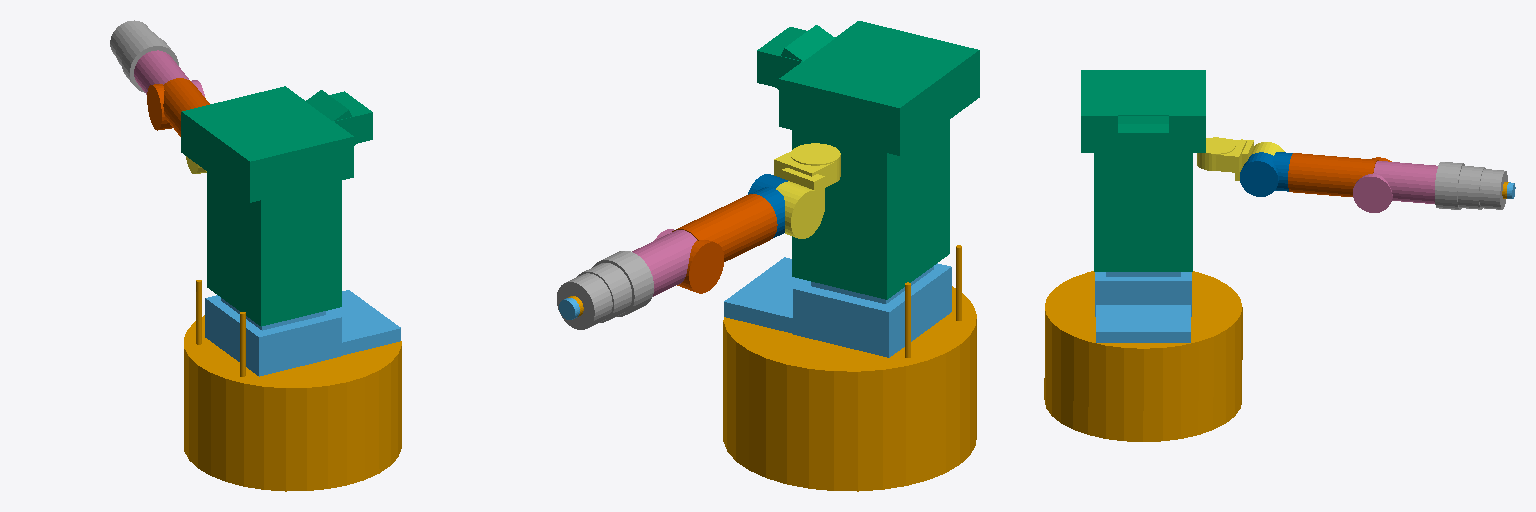
The robot description file, URDF, robot "TIAGo Steel":
<?xml version="1.0"?>
<robot name="TIAGo Steel" xmlns:xacro="http://ros.org/wiki/xacro">
  <link name="base_link">
    <visual>
      <origin xyz="0 0 0.06" rpy="3.1407962 0 0"/>
      <geometry>
        <cylinder radius="0.265" length="0.276"/>
      </geometry>
    </visual>
    <collision>
      <origin xyz="0 0 0.06" rpy="3.1407962 0 0"/>
      <geometry>
        <cylinder radius="0.265" length="0.276"/>
      </geometry>
    </collision>
    <visual>
      <origin xyz="-0.201 0.1062 0.28" rpy="3.1407962 0 0"/>
      <geometry>
        <cylinder radius="0.007" length="0.173"/>
      </geometry>
    </visual>
    <collision>
      <origin xyz="-0.201 0.1062 0.28" rpy="3.1407962 0 0"/>
      <geometry>
        <cylinder radius="0.007" length="0.173"/>
      </geometry>
    </collision>
    <visual>
      <origin xyz="-0.201 -0.1062 0.28" rpy="3.1407962 0 0"/>
      <geometry>
        <cylinder radius="0.007" length="0.173"/>
      </geometry>
    </visual>
    <collision>
      <origin xyz="-0.201 -0.1062 0.28" rpy="3.1407962 0 0"/>
      <geometry>
        <cylinder radius="0.007" length="0.173"/>
      </geometry>
    </collision>
  </link>
  <link name="Torso">
    <visual>
      <origin xyz="0 0 0.275" rpy="0 0 0"/>
      <geometry>
        <box size="0.18 0.2 0.55"/>
      </geometry>
    </visual>
    <collision>
      <origin xyz="0 0 0.275" rpy="0 0 0"/>
      <geometry>
        <box size="0.18 0.2 0.55"/>
      </geometry>
    </collision>
    <visual>
      <origin xyz="0.085 0 0.02" rpy="0 0 0"/>
      <geometry>
        <box size="0.4 0.254 0.04"/>
      </geometry>
    </visual>
    <collision>
      <origin xyz="0.085 0 0.02" rpy="0 0 0"/>
      <geometry>
        <box size="0.4 0.254 0.04"/>
      </geometry>
    </collision>
    <visual>
      <origin xyz="0.001 0 0.05" rpy="0 0 0"/>
      <geometry>
        <box size="0.233 0.26 0.12"/>
      </geometry>
    </visual>
    <collision>
      <origin xyz="0.001 0 0.05" rpy="0 0 0"/>
      <geometry>
        <box size="0.233 0.26 0.12"/>
      </geometry>
    </collision>
  </link>
  <joint name="base_link_Torso_joint" type="fixed">
    <parent link="base_link"/>
    <child link="Torso"/>
    <origin xyz="-0.054 0 0.193" rpy="0 0 0"/>
  </joint>
  <joint name="torso_lift_joint" type="prismatic">
    <parent link="Torso"/>
    <child link="torso_lift_link"/>
    <axis xyz="0 0 1"/>
    <origin xyz="0 0 0.6" rpy="0 0 0"/>
    <limit effort="2000" lower="0" upper="0.35" velocity="0.07"/>
  </joint>
  <link name="torso_lift_link">
    <visual>
      <origin xyz="0.164 0 -0.032" rpy="0 0 0"/>
      <geometry>
        <box size="0.15 0.138 0.074"/>
      </geometry>
    </visual>
    <collision>
      <origin xyz="0.164 0 -0.032" rpy="0 0 0"/>
      <geometry>
        <box size="0.15 0.138 0.074"/>
      </geometry>
    </collision>
    <visual>
      <origin xyz="0.1389 0 -0.0432" rpy="0 -0.43 0"/>
      <geometry>
        <box size="0.12 0.134 0.097"/>
      </geometry>
    </visual>
    <collision>
      <origin xyz="0.1389 0 -0.0432" rpy="0 -0.43 0"/>
      <geometry>
        <box size="0.12 0.134 0.097"/>
      </geometry>
    </collision>
    <visual>
      <origin xyz="-0.016 0 -0.05" rpy="0 0 0"/>
      <geometry>
        <box size="0.291 0.333 0.11"/>
      </geometry>
    </visual>
    <collision>
      <origin xyz="-0.016 0 -0.05" rpy="0 0 0"/>
      <geometry>
        <box size="0.291 0.333 0.11"/>
      </geometry>
    </collision>
    <visual>
      <origin xyz="0.003 0 -0.283" rpy="0 0 0"/>
      <geometry>
        <box size="0.228 0.263 0.358"/>
      </geometry>
    </visual>
    <collision>
      <origin xyz="0.003 0 -0.283" rpy="0 0 0"/>
      <geometry>
        <box size="0.228 0.263 0.358"/>
      </geometry>
    </collision>
  </link>
  <joint name="arm_1_joint" type="revolute">
    <parent link="torso_lift_link"/>
    <child link="arm_1_link"/>
    <axis xyz="0 0 1"/>
    <limit effort="43" lower="0.07" upper="2.68" velocity="1.95"/>
    <origin xyz="0.025 0.194 -0.16" rpy="0 0 0"/>
  </joint>
  <link name="arm_1_link">
    <visual>
      <origin xyz="0.0001 0 0.002" rpy="-3.141589 0 0"/>
      <geometry>
        <cylinder radius="0.0522" length="0.052"/>
      </geometry>
    </visual>
    <collision>
      <origin xyz="0.0001 0 0.002" rpy="-3.141589 0 0"/>
      <geometry>
        <cylinder radius="0.0522" length="0.052"/>
      </geometry>
    </collision>
    <visual>
      <origin xyz="0.0331 0.001 0.001" rpy="0 0 0"/>
      <geometry>
        <box size="0.08 0.1044 0.048"/>
      </geometry>
    </visual>
    <collision>
      <origin xyz="0.0331 0.001 0.001" rpy="0 0 0"/>
      <geometry>
        <box size="0.08 0.1044 0.048"/>
      </geometry>
    </collision>
    <visual>
      <origin xyz="0.0721 0.029 -0.023" rpy="0 0 0"/>
      <geometry>
        <box size="0.035 0.09 0.081"/>
      </geometry>
    </visual>
    <collision>
      <origin xyz="0.0721 0.029 -0.023" rpy="0 0 0"/>
      <geometry>
        <box size="0.035 0.09 0.081"/>
      </geometry>
    </collision>
    <visual>
      <origin xyz="0.1251 0.053 -0.042" rpy="1.5707963 0 0"/>
      <geometry>
        <cylinder radius="0.053" length="0.069"/>
      </geometry>
    </visual>
    <collision>
      <origin xyz="0.1251 0.053 -0.042" rpy="1.5707963 0 0"/>
      <geometry>
        <cylinder radius="0.053" length="0.069"/>
      </geometry>
    </collision>
  </link>
  <joint name="arm_2_joint" type="revolute">
    <parent link="arm_1_link"/>
    <child link="arm_2_link"/>
    <axis xyz="0 3.6732051e-06 1"/>
    <limit effort="43" lower="-1.5" upper="1.02" velocity="1.95"/>
    <origin xyz="0.1251 0.0195 -0.042" rpy="1.5708 0 0"/>
  </joint>
  <link name="arm_2_link">
    <visual>
      <origin xyz="0.056 5.5098077e-09 -0.0005" rpy="1.5707963 -2.7755576e-16 -1.5708"/>
      <geometry>
        <cylinder radius="0.052" length="0.048"/>
      </geometry>
    </visual>
    <collision>
      <origin xyz="0.056 5.5098077e-09 -0.0005" rpy="1.5707963 -2.7755576e-16 -1.5708"/>
      <geometry>
        <cylinder radius="0.052" length="0.048"/>
      </geometry>
    </collision>
    <visual>
      <origin xyz="0 5.5098077e-09 0.0295" rpy="-3.7000516e-06 0 0"/>
      <geometry>
        <cylinder radius="0.053" length="0.057"/>
      </geometry>
    </visual>
    <collision>
      <origin xyz="0 5.5098077e-09 0.0295" rpy="-3.7000516e-06 0 0"/>
      <geometry>
        <cylinder radius="0.053" length="0.057"/>
      </geometry>
    </collision>
  </link>
  <joint name="arm_3_joint" type="revolute">
    <parent link="arm_2_link"/>
    <child link="arm_3_link"/>
    <axis xyz="-7.801315e-05 -9.5201074e-05 1"/>
    <limit effort="26" lower="-3.46" upper="1.5" velocity="2.35"/>
    <origin xyz="0.0895 5.5098077e-09 -1.0118208e-14" rpy="-1.5708915 9.5201074e-05 1.5707183"/>
  </joint>
  <link name="arm_3_link">
    <visual>
      <origin xyz="-1.7943024e-07 -2.1896247e-07 -0.1037" rpy="-3.7000516e-06 0 0"/>
      <geometry>
        <cylinder radius="0.053" length="0.23"/>
      </geometry>
    </visual>
    <collision>
      <origin xyz="-1.7943024e-07 -2.1896247e-07 -0.1037" rpy="-3.7000516e-06 0 0"/>
      <geometry>
        <cylinder radius="0.053" length="0.23"/>
      </geometry>
    </collision>
    <visual>
      <origin xyz="-0.01690018 0.029999781 -0.2187" rpy="1.5707963 0 0"/>
      <geometry>
        <cylinder radius="0.056" length="0.056"/>
      </geometry>
    </visual>
    <collision>
      <origin xyz="-0.01690018 0.029999781 -0.2187" rpy="1.5707963 0 0"/>
      <geometry>
        <cylinder radius="0.056" length="0.056"/>
      </geometry>
    </collision>
  </link>
  <joint name="arm_4_joint" type="revolute">
    <parent link="arm_3_link"/>
    <child link="arm_4_link"/>
    <axis xyz="2.8276386e-06 -2.8276306e-06 1"/>
    <limit effort="26" lower="-0.32" upper="2.29" velocity="2.35"/>
    <origin xyz="-0.02000018 -0.027000219 -0.2197" rpy="2.356193 -1.5707923 2.356193"/>
  </joint>
  <link name="arm_4_link">
    <visual>
      <origin xyz="0 0.001 -0.002" rpy="-3.141589 0 0"/>
      <geometry>
        <cylinder radius="0.054" length="0.056"/>
      </geometry>
    </visual>
    <collision>
      <origin xyz="0 0.001 -0.002" rpy="-3.141589 0 0"/>
      <geometry>
        <cylinder radius="0.054" length="0.056"/>
      </geometry>
    </collision>
    <visual>
      <origin xyz="-0.093 0.019 0.027" rpy="1.5707963 -2.7755576e-16 -1.5708"/>
      <geometry>
        <cylinder radius="0.052" length="0.191"/>
      </geometry>
    </visual>
    <collision>
      <origin xyz="-0.093 0.019 0.027" rpy="1.5707963 -2.7755576e-16 -1.5708"/>
      <geometry>
        <cylinder radius="0.052" length="0.191"/>
      </geometry>
    </collision>
  </link>
  <joint name="arm_5_joint" type="revolute">
    <parent link="arm_4_link"/>
    <child link="arm_5_link"/>
    <axis xyz="3.6732051e-06 0 1"/>
    <limit effort="3" lower="-2.07" upper="2.07" velocity="1.95"/>
    <origin xyz="-0.162 0.02 0.027" rpy="3.1415927 -1.5707927 3.1415927"/>
  </joint>
  <link name="arm_5_link">
    <visual>
      <origin xyz="0 0 0.04" rpy="3.1407962 0 0"/>
      <geometry>
        <cylinder radius="0.063" length="0.062"/>
      </geometry>
    </visual>
    <collision>
      <origin xyz="0 0 0.04" rpy="3.1407962 0 0"/>
      <geometry>
        <cylinder radius="0.063" length="0.062"/>
      </geometry>
    </collision>
    <visual>
      <origin xyz="0 0 0.099" rpy="3.1407962 0 0"/>
      <geometry>
        <cylinder radius="0.057" length="0.06"/>
      </geometry>
    </visual>
    <collision>
      <origin xyz="0 0 0.099" rpy="3.1407962 0 0"/>
      <geometry>
        <cylinder radius="0.057" length="0.06"/>
      </geometry>
    </collision>
    <visual>
      <origin xyz="0 0 0.156" rpy="3.1407962 0 0"/>
      <geometry>
        <cylinder radius="0.053" length="0.06"/>
      </geometry>
    </visual>
    <collision>
      <origin xyz="0 0 0.156" rpy="3.1407962 0 0"/>
      <geometry>
        <cylinder radius="0.053" length="0.06"/>
      </geometry>
    </collision>
  </link>
  <joint name="arm_6_joint" type="revolute">
    <parent link="arm_5_link"/>
    <child link="arm_6_link"/>
    <axis xyz="2.8276386e-06 -2.8276306e-06 1"/>
    <limit effort="6.6" lower="-1.39" upper="1.39" velocity="1.76"/>
    <origin xyz="0 0 0.15" rpy="2.356193 -1.5707923 2.356193"/>
  </joint>
  <link name="arm_6_link">
    <visual>
      <origin xyz="0.0409 0 0" rpy="1.5707963 -2.7755576e-16 -1.5708"/>
      <geometry>
        <cylinder radius="0.0226" length="0.013"/>
      </geometry>
    </visual>
    <collision>
      <origin xyz="0.0409 0 0" rpy="1.5707963 -2.7755576e-16 -1.5708"/>
      <geometry>
        <cylinder radius="0.0226" length="0.013"/>
      </geometry>
    </collision>
  </link>
  <joint name="arm_7_joint" type="revolute">
    <parent link="arm_6_link"/>
    <child link="arm_7_link"/>
    <axis xyz="-2.8276306e-06 2.8276386e-06 1"/>
    <limit effort="6.6" lower="-2.07" upper="2.07" velocity="1.76"/>
    <origin xyz="0 0 0" rpy="1.5707991 -2.8276386e-06 1.5707991"/>
  </joint>
  <link name="arm_7_link">
    <visual>
      <origin xyz="-1.5551969e-07 1.5552013e-07 0.055" rpy="-3.141589 0 0"/>
      <geometry>
        <cylinder radius="0.0225" length="0.0157"/>
      </geometry>
    </visual>
    <collision>
      <origin xyz="-1.5551969e-07 1.5552013e-07 0.055" rpy="-3.141589 0 0"/>
      <geometry>
        <cylinder radius="0.0225" length="0.0157"/>
      </geometry>
    </collision>
  </link>
</robot>

--- Facts derived from the render (not from the file) ---
Views: 3 orthographic renders of the robot side by side, from view 1: azimuth 30°, elevation 25°; view 2: azimuth 150°, elevation 25°; view 3: azimuth 270°, elevation 25°.
Robot: TIAGo Steel — 10 links, 9 joints (7 revolute, 1 prismatic, 1 fixed); root link base_link; default pose: all joints at 0 but 1 set to mid-range because 0 is outside their limits (arm_1_joint = 1.38).
Visible links, largest first — view 1: torso_lift_link, base_link, Torso, arm_3_link, arm_5_link, arm_4_link; view 2: torso_lift_link, base_link, Torso, arm_3_link, arm_5_link, arm_1_link, arm_4_link, arm_2_link; view 3: base_link, torso_lift_link, Torso, arm_4_link, arm_3_link, arm_5_link, arm_1_link, arm_2_link.
Boxes of the visible links, x1,y1,x2,y2 form: torso_lift_link: [181, 86, 372, 326]; base_link: [184, 280, 401, 491]; Torso: [205, 290, 400, 376]; arm_3_link: [147, 78, 209, 136]; arm_5_link: [110, 20, 178, 92]; arm_4_link: [134, 50, 204, 96]; torso_lift_link: [757, 21, 979, 299]; base_link: [723, 245, 976, 491]; Torso: [724, 257, 951, 357]; arm_3_link: [672, 194, 777, 293]; arm_5_link: [557, 251, 653, 329]; arm_1_link: [774, 143, 840, 238]; arm_4_link: [632, 229, 696, 296]; arm_2_link: [748, 174, 787, 237]; base_link: [1044, 271, 1242, 441]; torso_lift_link: [1081, 70, 1205, 271]; Torso: [1095, 272, 1191, 342]; arm_4_link: [1353, 161, 1437, 212]; arm_3_link: [1288, 153, 1391, 196]; arm_5_link: [1435, 162, 1507, 209]; arm_1_link: [1197, 137, 1284, 180]; arm_2_link: [1240, 152, 1292, 196].
Size in the robot's own frame: 0.53 by 1.26 by 0.8971 metres.
Geometry: primitives only (box / cylinder / sphere), no mesh files.